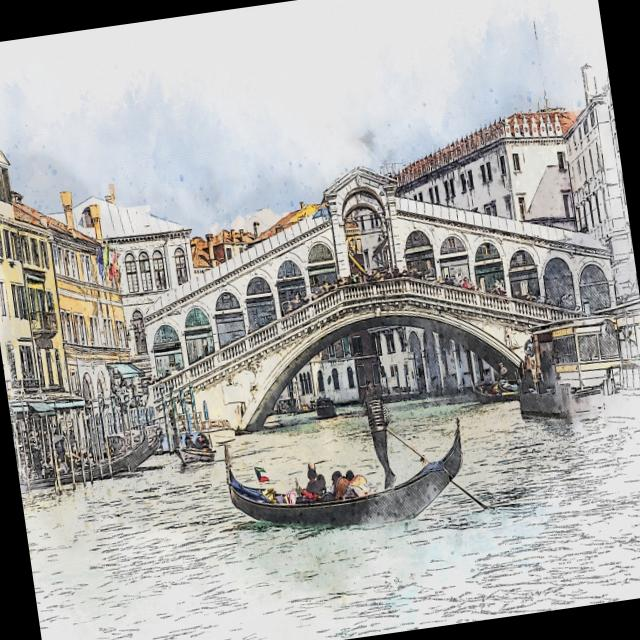boat: (212, 380, 490, 566)
